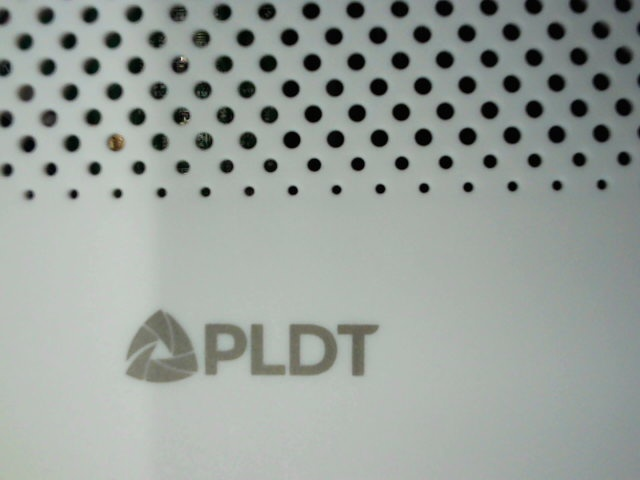BH_PLDT: (115, 291, 394, 387)
